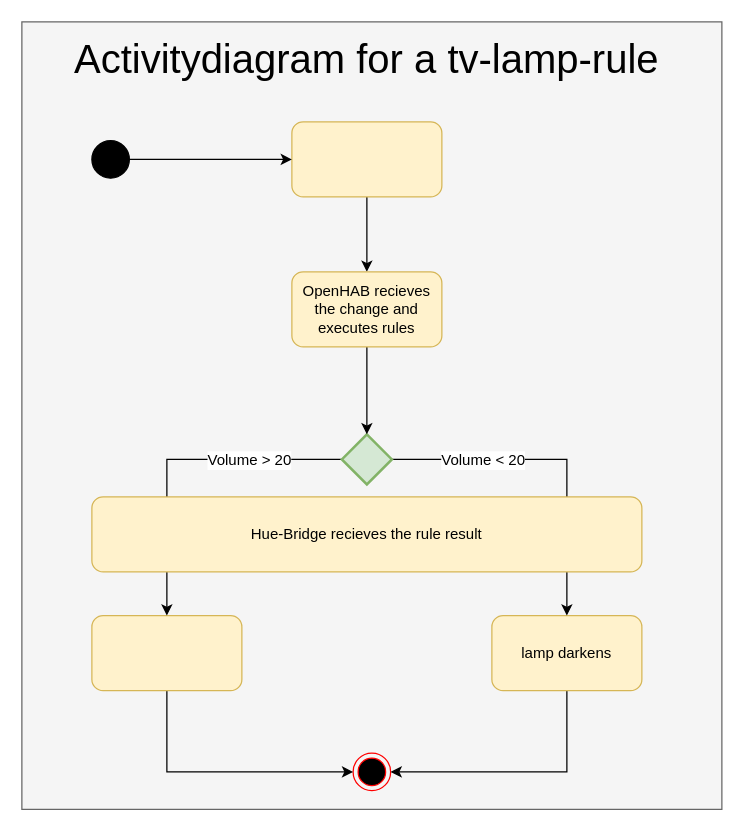
The diagram is 744 pixels wide and 831 high, and some of its shapes have lost their labels. The shapes that lost their labels are listed below. From the top down, each one's box as (x1, y1, x2, y2) in pixels, then its label:
(291, 121, 442, 197): Volume of LG TVs changes
(91, 614, 242, 691): lamp lights up
